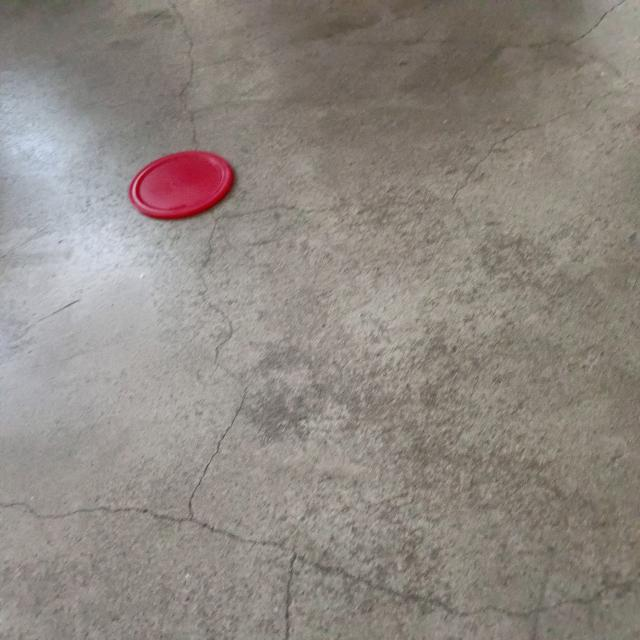chip: (127, 148, 235, 220)
